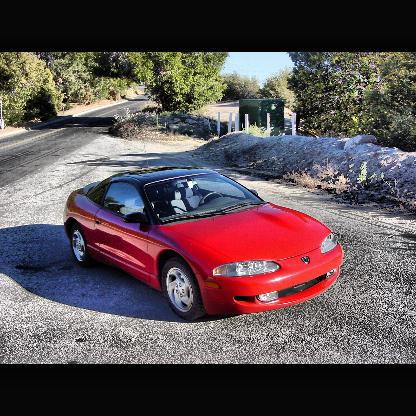Eagle Talon Hatchback 1998: (64, 166, 344, 332)
